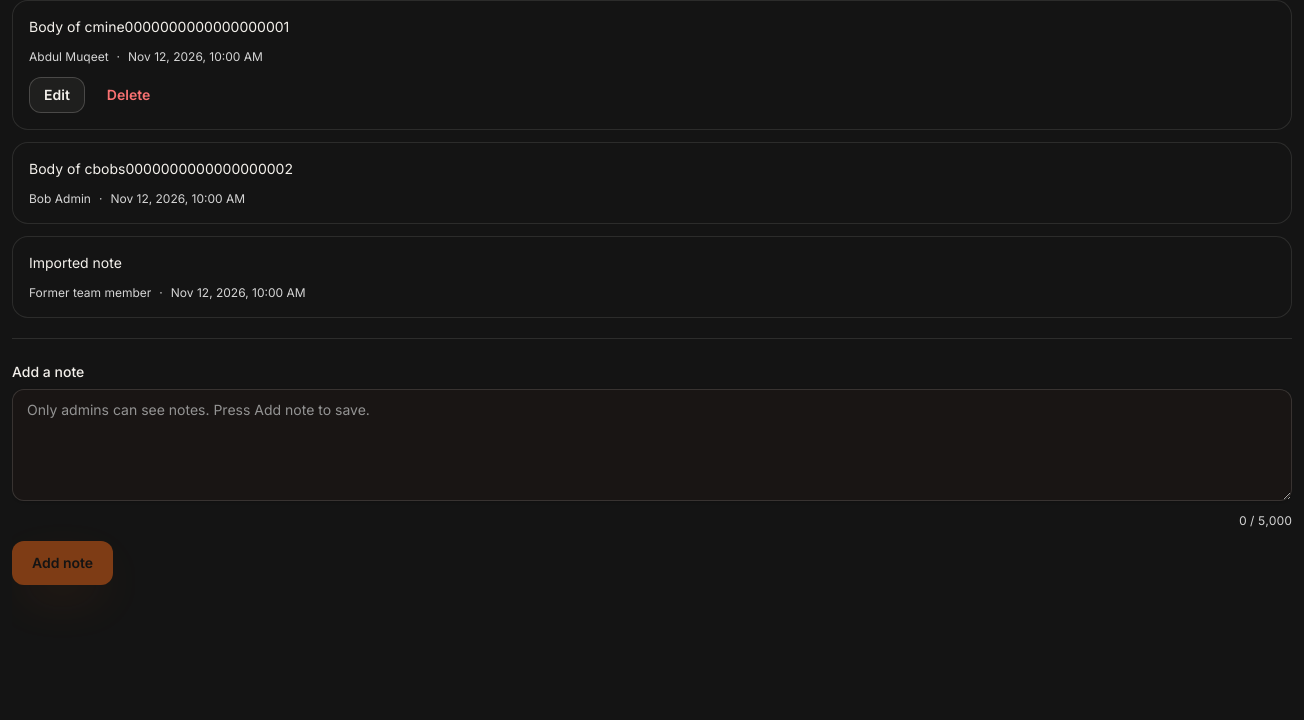
LeadNotesPanel: adding a note › updates the character counter as the person types
Type "Hello" into the text box labelled "Add a note". click: point(652, 445)
box: [12,389,1292,501]
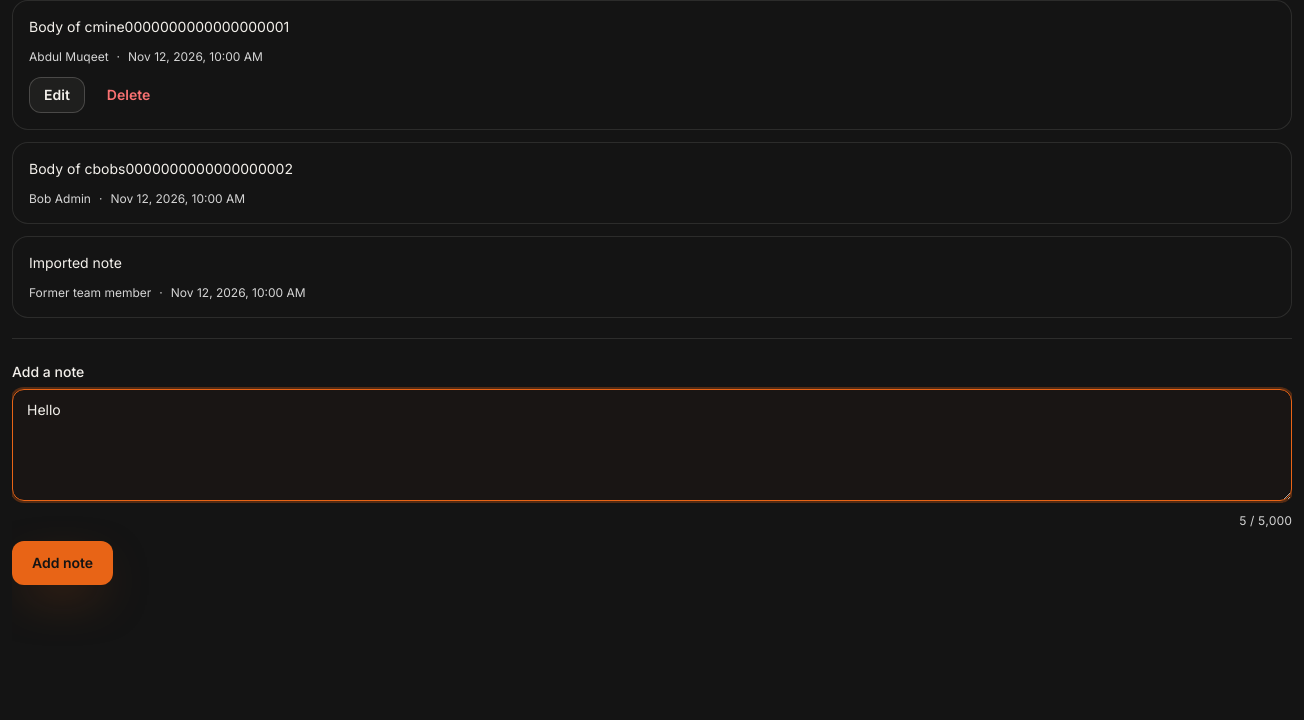
Expected: the text "5 / 5,000" is shown, [1239,513,1292,529]
